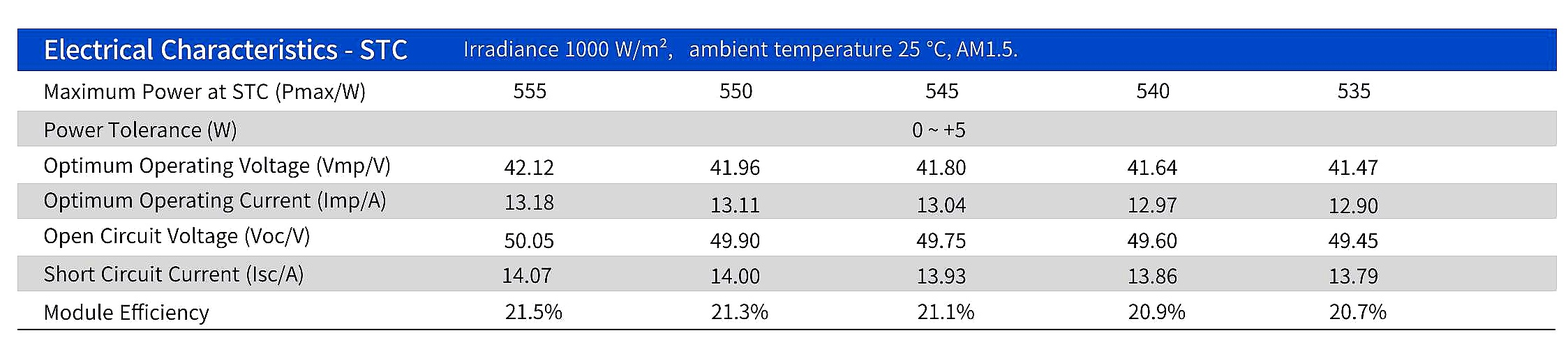table: (3, 18, 1568, 342)
table column: (18, 27, 431, 327), (1276, 25, 1541, 331), (433, 24, 653, 330), (1061, 27, 1275, 329), (856, 28, 1063, 331), (655, 27, 858, 329)
table name: (15, 27, 1556, 69)
table row: (12, 69, 1558, 116), (12, 28, 1562, 71), (6, 182, 1560, 219), (10, 145, 1558, 182), (8, 257, 1560, 293), (16, 292, 1564, 328), (10, 221, 1560, 256), (10, 116, 1562, 146)
table row header: (15, 29, 433, 328)
table spanning cell: (15, 28, 1555, 69), (431, 116, 1550, 146)
